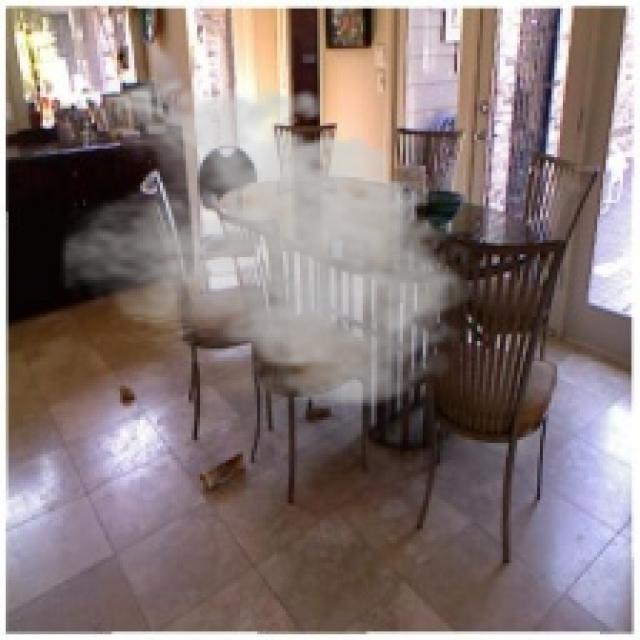smoke: (60, 66, 483, 414)
